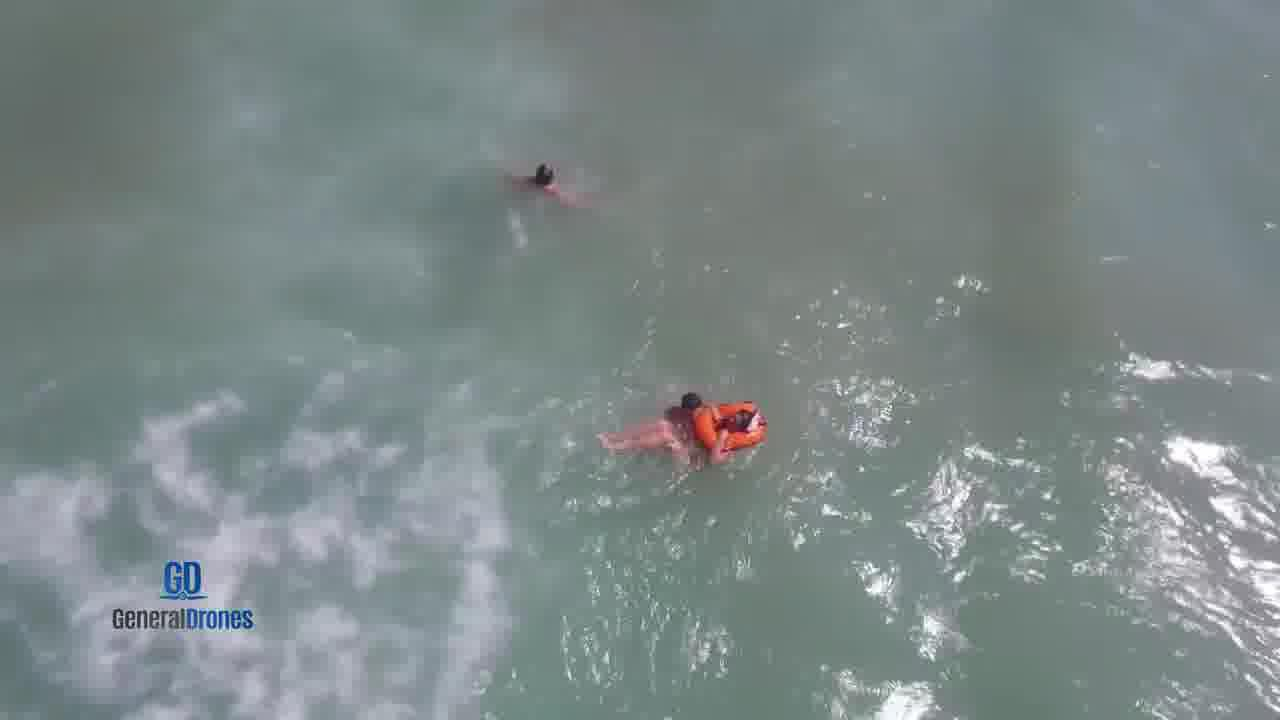swimmer: (597, 406, 761, 460), (501, 156, 578, 204), (658, 384, 720, 415)
